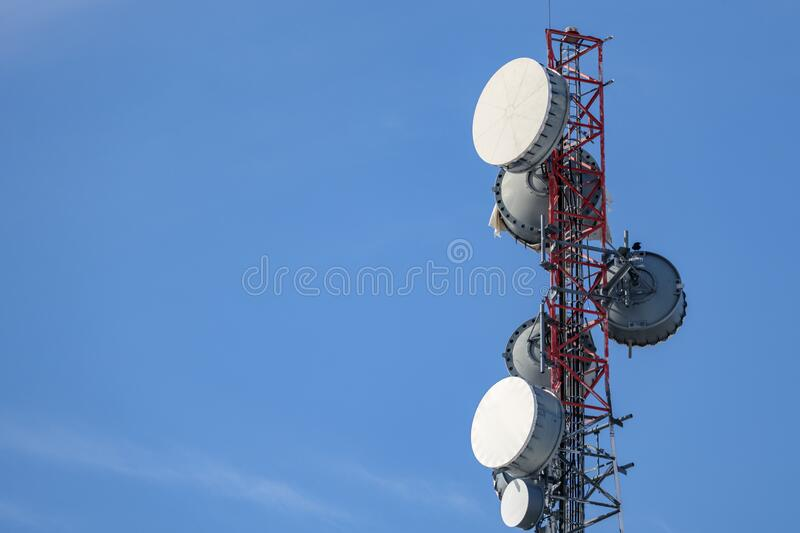ba: (472, 38, 563, 180), (462, 369, 567, 481)
